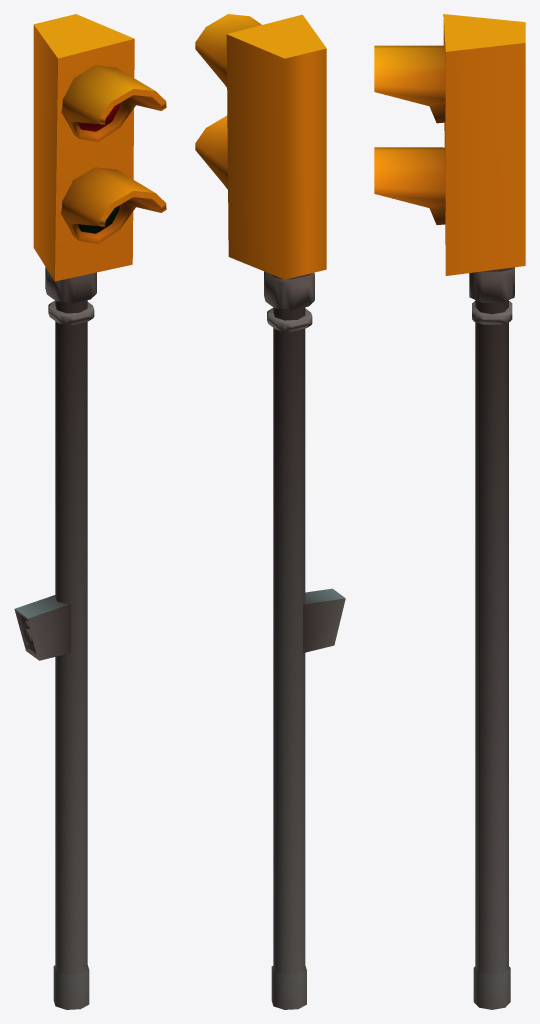
Rendered from SmallTrafficLight_TwoLight.fbx.
3 renders of one model, left to right at view 1: azimuth 30°, elevation 25°; view 2: azimuth 210°, elevation 25°; view 3: azimuth 270°, elevation 25°, orthographic.
Parts seen in each view (by area): view 1: SmallTrafficLight_TwoLight; view 2: SmallTrafficLight_TwoLight; view 3: SmallTrafficLight_TwoLight.
Boxes of the visible parts, left/top/right/bottom form: SmallTrafficLight_TwoLight: left=14, top=14, right=166, bottom=1009; SmallTrafficLight_TwoLight: left=195, top=14, right=345, bottom=1009; SmallTrafficLight_TwoLight: left=374, top=14, right=525, bottom=1009.
Bounding box in the file's own units: 31.35 × 322 × 45.52.
